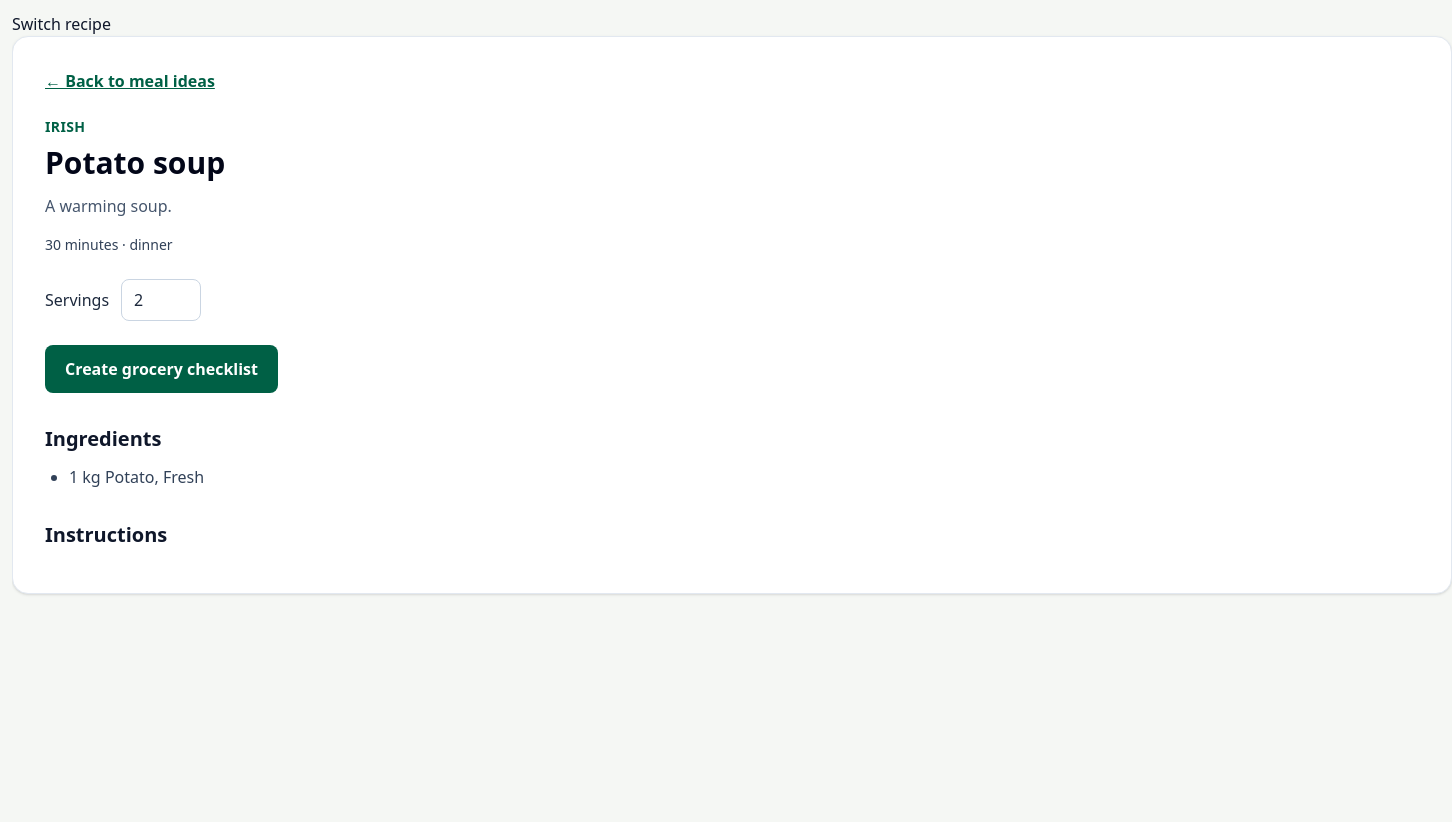
Test: grocery checklist flow › creates a checklist, recalculates servings, and toggles owned status
The width and height of the screenshot is (1452, 822).
Click the button "Create grocery checklist" at [162, 369], box [45, 345, 278, 393]
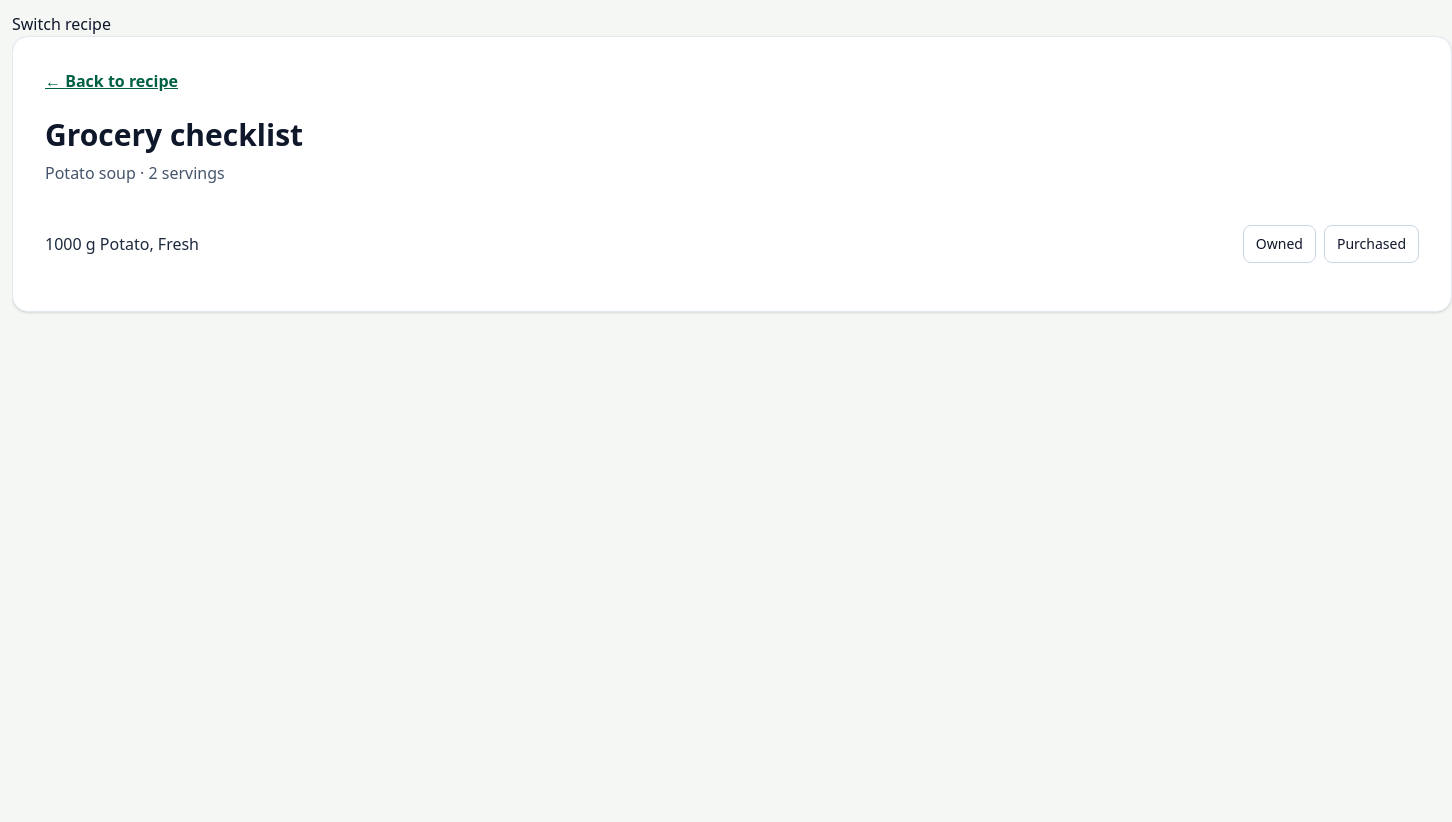
Expected: the heading "Grocery checklist" is shown, [45, 114, 303, 155]
Expected: the text "1000 g Potato, Fresh" is shown, [45, 232, 199, 256]
Click the button "Owned" at [1279, 244], box [1243, 225, 1316, 263]
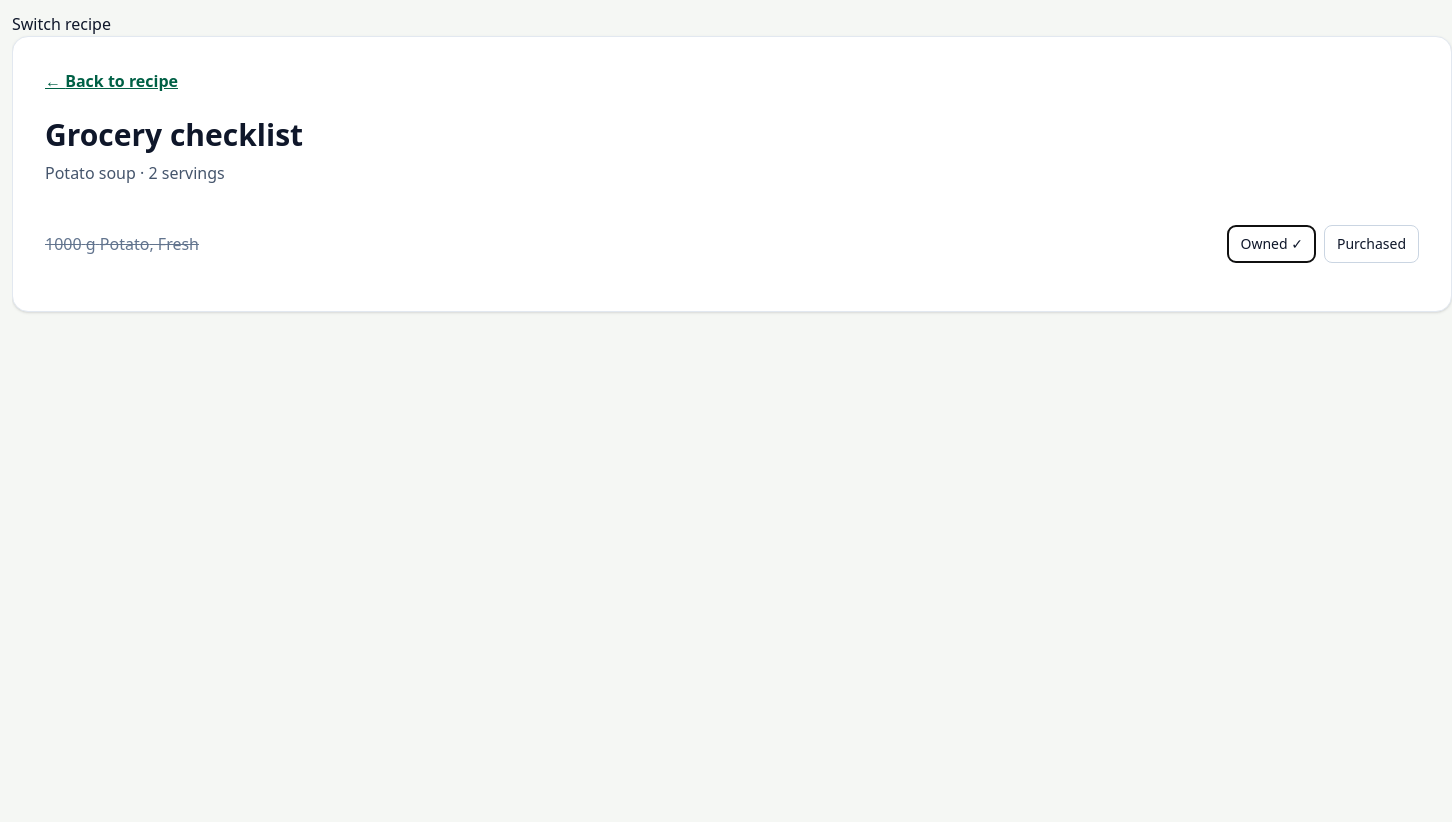
Expected: the button "Owned ✓" is pressed, [1228, 225, 1316, 263]
Click the link "← Back to recipe" at [55, 81], box [45, 70, 178, 92]
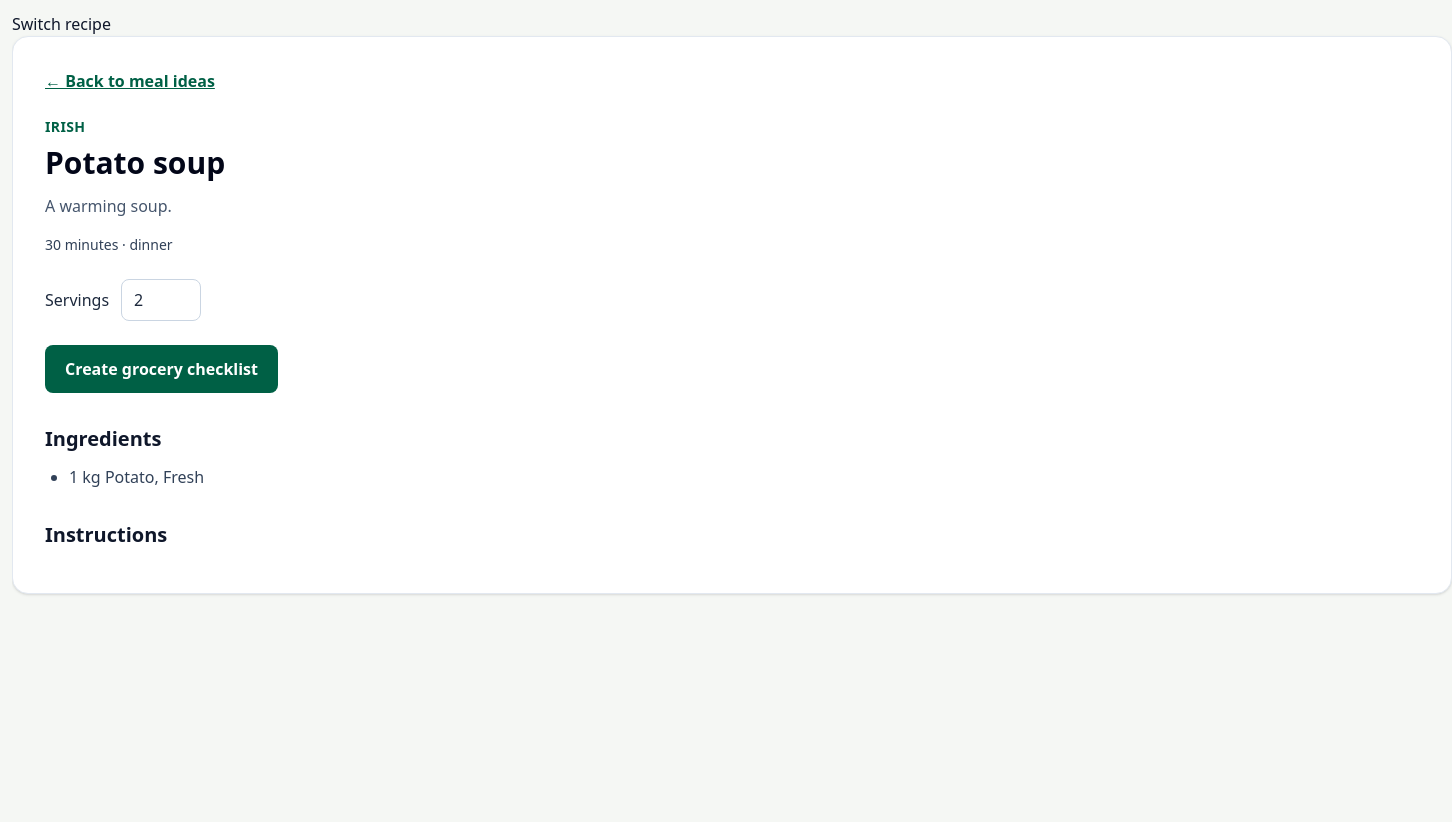
Replace the text in the number field labelled "Servings" with "4" at [161, 300], box [121, 279, 201, 321]
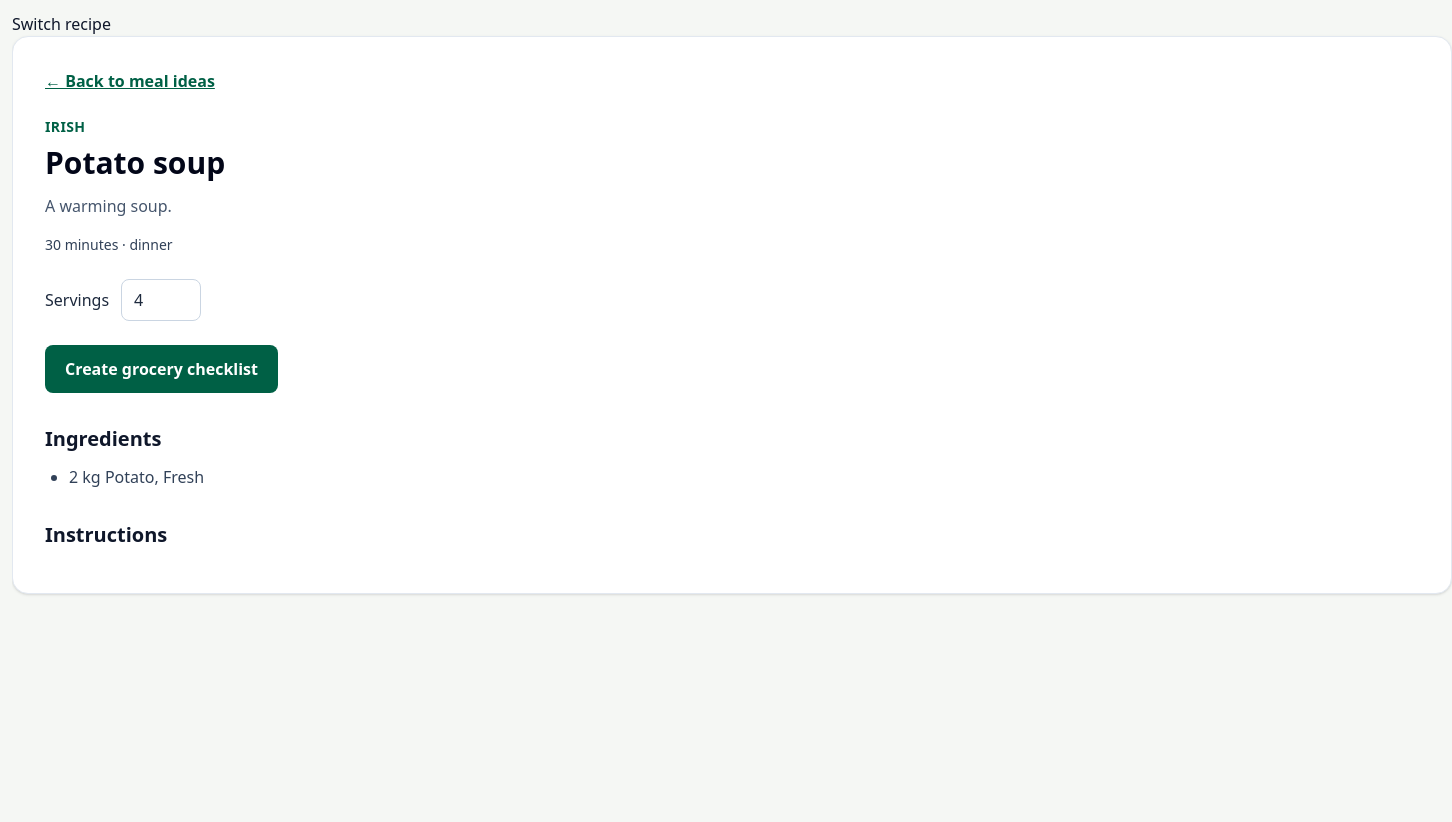
Click the button "Create grocery checklist" at [162, 369], box [45, 345, 278, 393]
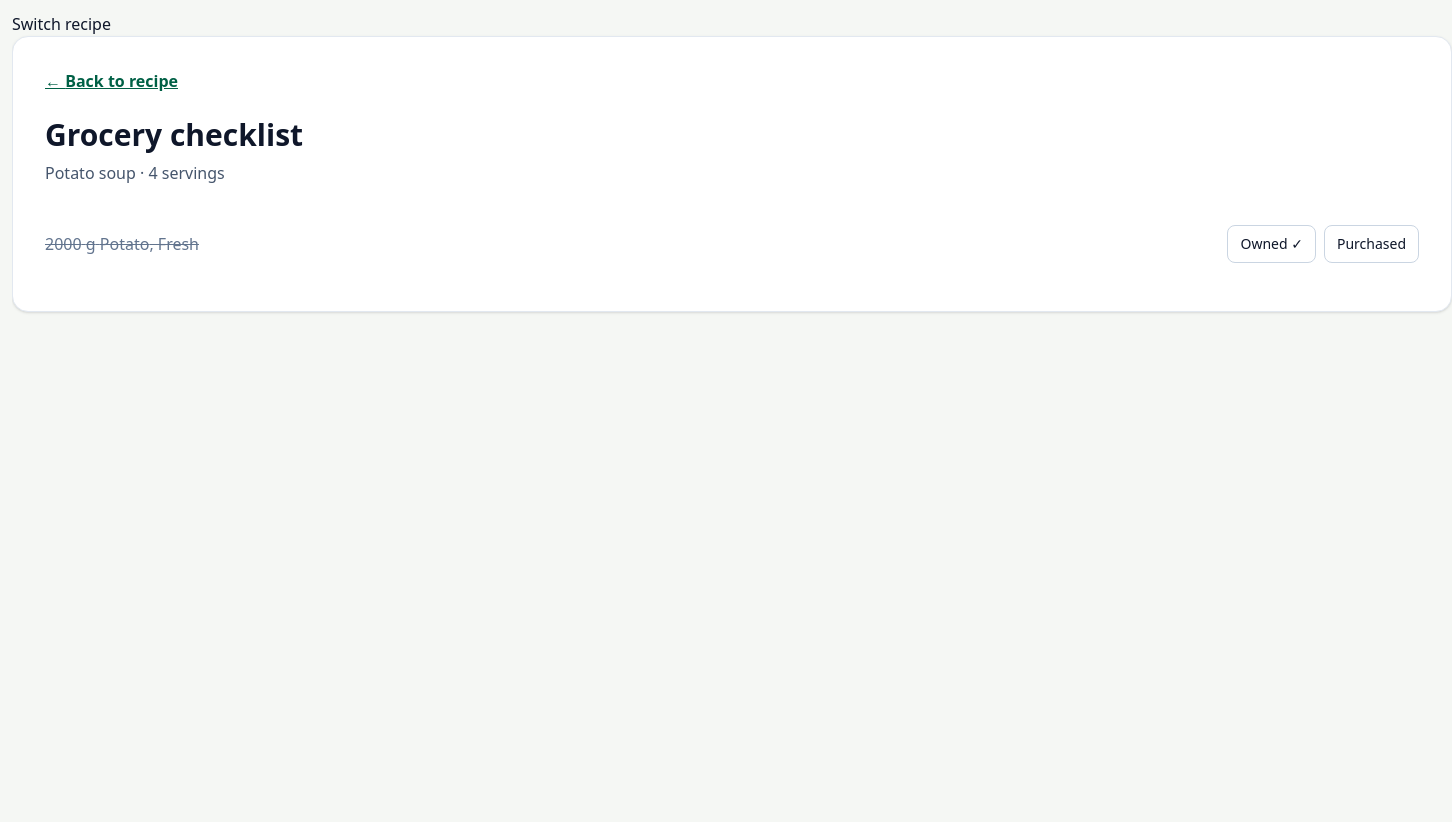
Expected: the text "2000 g Potato, Fresh" is shown, [45, 232, 199, 256]
